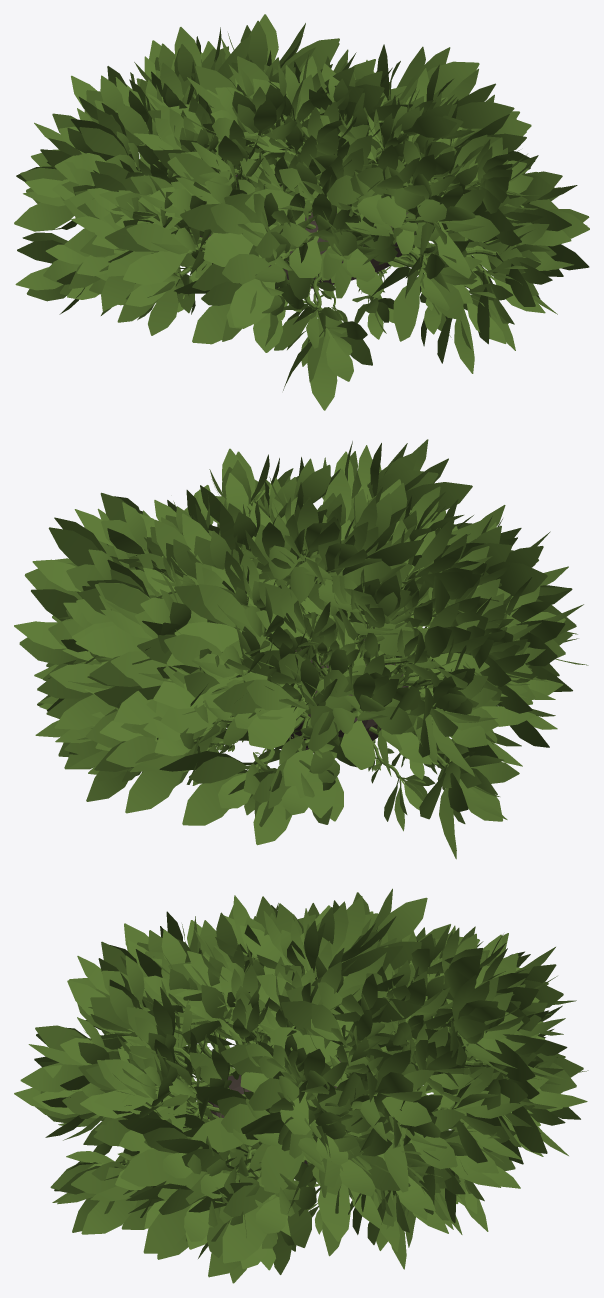
File: Arbusto3.fbx
3 views of the same model, one above another, from view 1: azimuth 30°, elevation 25°; view 2: azimuth 150°, elevation 25°; view 3: azimuth 270°, elevation 25° (orthographic). The views are drawn at different scales.
Parts seen in each view (by area): view 1: B2.003|HO1.001|Dupli|48, B2.003|HO1.001|Dupli|5, B2.003|HO1.001|Dupli|44, B2.003|HO1.001|Dupli|188, B2.003|HO1.001|Dupli|189, B2.003|HO1.001|Dupli|49, B2.003|HO1.001|Dupli|47, B2.003|HO1.001|Dupli|186, B2.003|HO1.001|Dupli|207, B2.003|HO1.001|Dupli|13, B2.003|HO1.001|Dupli|185, B2.003|HO1.001|Dupli|268 (+75 smaller); view 2: B2.003|HO1.001|Dupli|296, B2.003|HO1.001|Dupli|252, B2.003|HO1.001|Dupli|273, B2.003|HO1.001|Dupli|282, B2.003|HO1.001|Dupli|13, B2.003|HO1.001|Dupli|263, B2.003|HO1.001|Dupli|184, B2.003|HO1.001|Dupli|201, B2.003|HO1.001|Dupli|249, B2.003|HO1.001|Dupli|268, B2.003|HO1.001|Dupli|259, B2.003|HO1.001|Dupli|28 (+70 smaller); view 3: B2.003|HO1.001|Dupli|100, B2.003|HO1.001|Dupli|98, B2.003|HO1.001|Dupli|184, B2.003|HO1.001|Dupli|210, B2.003|HO1.001|Dupli|132, B2.003|HO1.001|Dupli|189, B2.003|HO1.001|Dupli|28, B2.003|HO1.001|Dupli|207, B2.003|HO1.001|Dupli|34, B2.003|HO1.001|Dupli|208, B2.003|HO1.001|Dupli|113, B2.003|HO1.001|Dupli|186 (+74 smaller).
Part boxes in pixels (left/top/right/bottom): B2.003|HO1.001|Dupli|48: left=192, top=231, right=311, bottom=326; B2.003|HO1.001|Dupli|5: left=105, top=209, right=211, bottom=285; B2.003|HO1.001|Dupli|44: left=283, top=282, right=372, bottom=410; B2.003|HO1.001|Dupli|188: left=370, top=231, right=476, bottom=341; B2.003|HO1.001|Dupli|189: left=393, top=186, right=499, bottom=278; B2.003|HO1.001|Dupli|49: left=255, top=193, right=357, bottom=277; B2.003|HO1.001|Dupli|47: left=180, top=193, right=293, bottom=266; B2.003|HO1.001|Dupli|186: left=350, top=154, right=456, bottom=228; B2.003|HO1.001|Dupli|207: left=378, top=64, right=514, bottom=157; B2.003|HO1.001|Dupli|13: left=15, top=232, right=87, bottom=314; B2.003|HO1.001|Dupli|185: left=326, top=145, right=424, bottom=224; B2.003|HO1.001|Dupli|268: left=54, top=119, right=175, bottom=186; B2.003|HO1.001|Dupli|296: left=159, top=716, right=306, bottom=826; B2.003|HO1.001|Dupli|252: left=213, top=658, right=337, bottom=749; B2.003|HO1.001|Dupli|273: left=308, top=672, right=412, bottom=769; B2.003|HO1.001|Dupli|282: left=94, top=714, right=233, bottom=813; B2.003|HO1.001|Dupli|13: left=391, top=732, right=519, bottom=859; B2.003|HO1.001|Dupli|263: left=174, top=584, right=295, bottom=657; B2.003|HO1.001|Dupli|184: left=24, top=517, right=168, bottom=618; B2.003|HO1.001|Dupli|201: left=259, top=516, right=391, bottom=612; B2.003|HO1.001|Dupli|249: left=137, top=625, right=264, bottom=708; B2.003|HO1.001|Dupli|268: left=364, top=602, right=489, bottom=688; B2.003|HO1.001|Dupli|259: left=268, top=717, right=354, bottom=817; B2.003|HO1.001|Dupli|28: left=14, top=588, right=155, bottom=678; B2.003|HO1.001|Dupli|100: left=188, top=1144, right=316, bottom=1263; B2.003|HO1.001|Dupli|98: left=118, top=1097, right=249, bottom=1204; B2.003|HO1.001|Dupli|184: left=315, top=1050, right=434, bottom=1141; B2.003|HO1.001|Dupli|210: left=288, top=1133, right=396, bottom=1241; B2.003|HO1.001|Dupli|132: left=126, top=1174, right=244, bottom=1257; B2.003|HO1.001|Dupli|189: left=20, top=1017, right=209, bottom=1092; B2.003|HO1.001|Dupli|28: left=360, top=1095, right=464, bottom=1192; B2.003|HO1.001|Dupli|207: left=248, top=1049, right=350, bottom=1134; B2.003|HO1.001|Dupli|34: left=434, top=1066, right=524, bottom=1163; B2.003|HO1.001|Dupli|208: left=241, top=1108, right=359, bottom=1187; B2.003|HO1.001|Dupli|113: left=59, top=1152, right=156, bottom=1234; B2.003|HO1.001|Dupli|186: left=67, top=956, right=210, bottom=1086.
Size of the model in its own units: 818 by 415 by 800.
